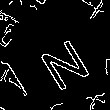N_NW: (28, 25, 90, 88)
